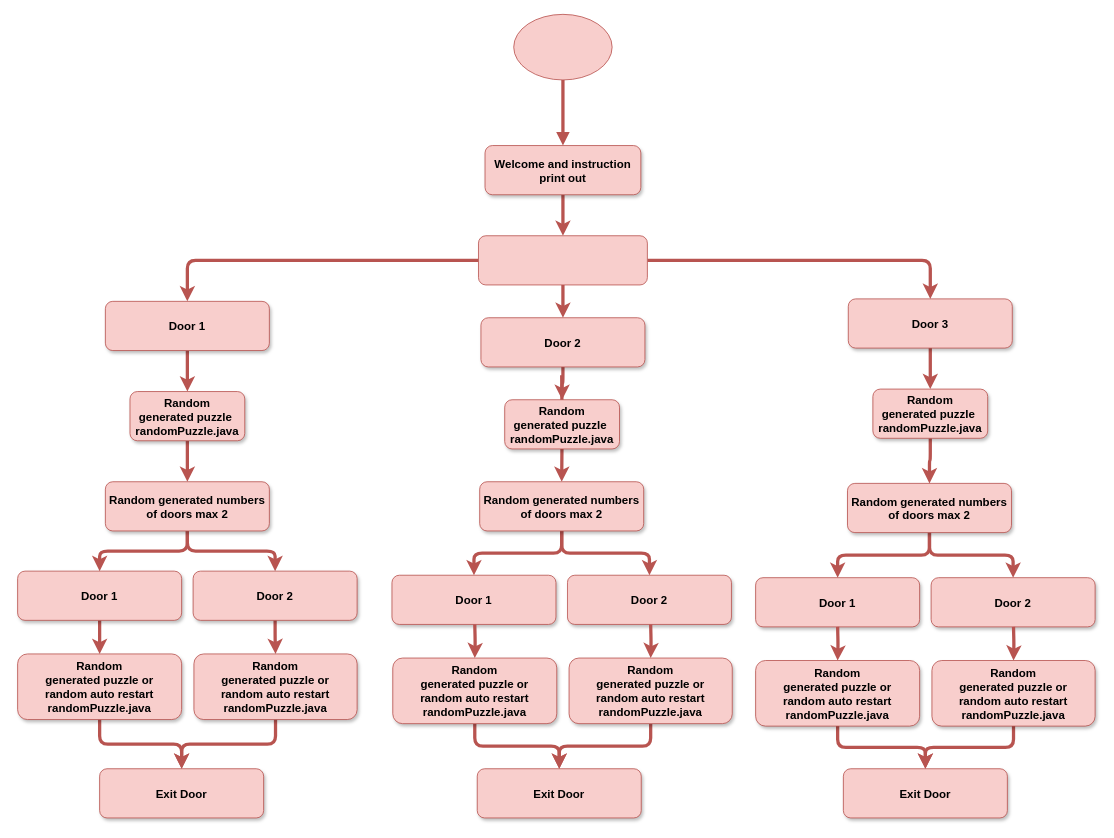
Some shapes in this 1114 by 838 pixel diagram are drawn without their labels. Here are the shapes that lost their labels. From the top down, the centre of each, then its label:
(x=562, y=47): Start
(x=562, y=260): Will be asked to pick a door
